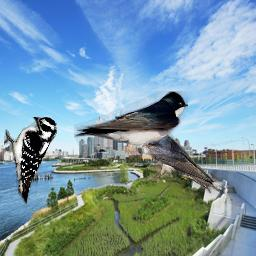Swallow: (74, 91, 188, 154), (142, 123, 227, 196)
Woodpecker: (4, 117, 57, 206)
